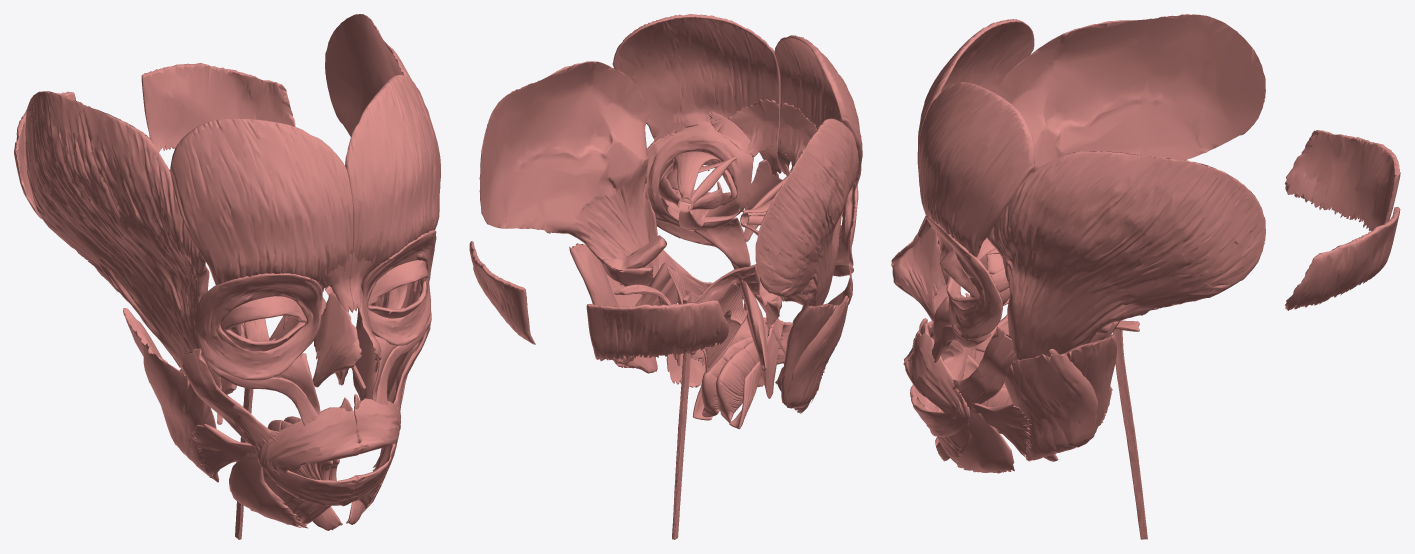
Rendered from muscles-tete.hi.glb.
3 views of the same model, side by side, from view 1: azimuth 30°, elevation 25°; view 2: azimuth 150°, elevation 25°; view 3: azimuth 270°, elevation 25° (orthographic). The views are drawn at different scales.
Parts seen in each view (by area): view 1: ZA-temporal-muscle-d, ZA-occipito-frontal-frontal-d, ZA-occipito-frontal-frontal-g, ZA-occipito-frontal-occipital-g, ZA-orbiculaire-oeil-orbitaire-d, ZA-orbiculaire-bouche-d, ZA-temporal-muscle-g, ZA-masseter-superficiel-d, ZA-orbiculaire-oeil-orbitaire-g, ZA-orbiculaire-bouche-g, ZA-grand-zygomatique-d, ZA-nasal-muscle-d (+18 smaller); view 2: ZA-temporal-muscle-g, ZA-occipito-frontal-frontal-g, ZA-temporal-muscle-d, ZA-occipito-frontal-occipital-d, ZA-occipito-frontal-frontal-d, ZA-orbiculaire-oeil-orbitaire-g, ZA-masseter-superficiel-d, ZA-occipito-frontal-occipital-g, ZA-pterygoidien-medial-d, ZA-masseter-profond-g, FJ2750, ZA-masseter-profond-d (+26 smaller); view 3: ZA-temporal-muscle-g, ZA-temporal-muscle-d, ZA-occipito-frontal-frontal-g, ZA-occipito-frontal-occipital-d, ZA-masseter-superficiel-g, ZA-occipito-frontal-frontal-d, ZA-occipito-frontal-occipital-g, ZA-orbiculaire-bouche-g, ZA-orbiculaire-oeil-orbitaire-g, ZA-nasal-muscle-g, ZA-grand-zygomatique-g, ZA-abaisseur-angle-bouche-g (+7 smaller).
Boxes of the visible parts, bbox=[...] form: ZA-temporal-muscle-d: bbox=[25, 91, 220, 388]; ZA-occipito-frontal-frontal-d: bbox=[170, 118, 353, 288]; ZA-occipito-frontal-frontal-g: bbox=[345, 75, 440, 277]; ZA-occipito-frontal-occipital-g: bbox=[141, 63, 295, 152]; ZA-orbiculaire-oeil-orbitaire-d: bbox=[194, 273, 322, 380]; ZA-orbiculaire-bouche-d: bbox=[257, 407, 361, 506]; ZA-temporal-muscle-g: bbox=[325, 14, 411, 308]; ZA-masseter-superficiel-d: bbox=[143, 343, 218, 482]; ZA-orbiculaire-oeil-orbitaire-g: bbox=[361, 230, 436, 345]; ZA-orbiculaire-bouche-g: bbox=[345, 398, 400, 505]; ZA-grand-zygomatique-d: bbox=[182, 348, 278, 453]; ZA-nasal-muscle-d: bbox=[313, 292, 361, 387]; ZA-temporal-muscle-g: bbox=[479, 61, 658, 285]; ZA-occipito-frontal-frontal-g: bbox=[612, 14, 780, 157]; ZA-temporal-muscle-d: bbox=[755, 118, 858, 324]; ZA-occipito-frontal-occipital-d: bbox=[586, 300, 728, 361]; ZA-occipito-frontal-frontal-d: bbox=[774, 35, 862, 190]; ZA-orbiculaire-oeil-orbitaire-g: bbox=[644, 121, 752, 230]; ZA-masseter-superficiel-d: bbox=[783, 295, 849, 408]; ZA-occipito-frontal-occipital-g: bbox=[469, 241, 535, 344]; ZA-pterygoidien-medial-d: bbox=[740, 281, 782, 398]; ZA-masseter-profond-g: bbox=[569, 243, 656, 373]; FJ2750: bbox=[716, 336, 767, 422]; ZA-masseter-profond-d: bbox=[781, 303, 837, 408]; ZA-temporal-muscle-g: bbox=[987, 151, 1265, 361]; ZA-temporal-muscle-d: bbox=[994, 14, 1265, 171]; ZA-occipito-frontal-frontal-g: bbox=[918, 82, 1034, 257]; ZA-occipito-frontal-occipital-d: bbox=[1285, 130, 1400, 230]; ZA-masseter-superficiel-g: bbox=[1004, 349, 1097, 461]; ZA-occipito-frontal-frontal-d: bbox=[917, 19, 1034, 171]; ZA-occipito-frontal-occipital-g: bbox=[1285, 207, 1400, 310]; ZA-orbiculaire-bouche-g: bbox=[905, 333, 969, 437]; ZA-orbiculaire-oeil-orbitaire-g: bbox=[925, 215, 1002, 339]; ZA-nasal-muscle-g: bbox=[892, 227, 945, 321]; ZA-grand-zygomatique-g: bbox=[952, 327, 1015, 410]; ZA-abaisseur-angle-bouche-g: bbox=[956, 409, 1014, 473].
Bounding box in the file's own units: 0.1572 × 0.2187 × 0.21.
